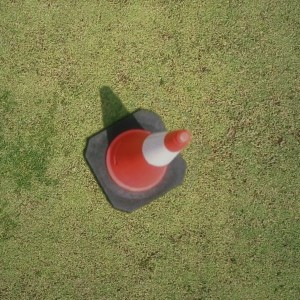traffic cone: (83, 108, 188, 213)
